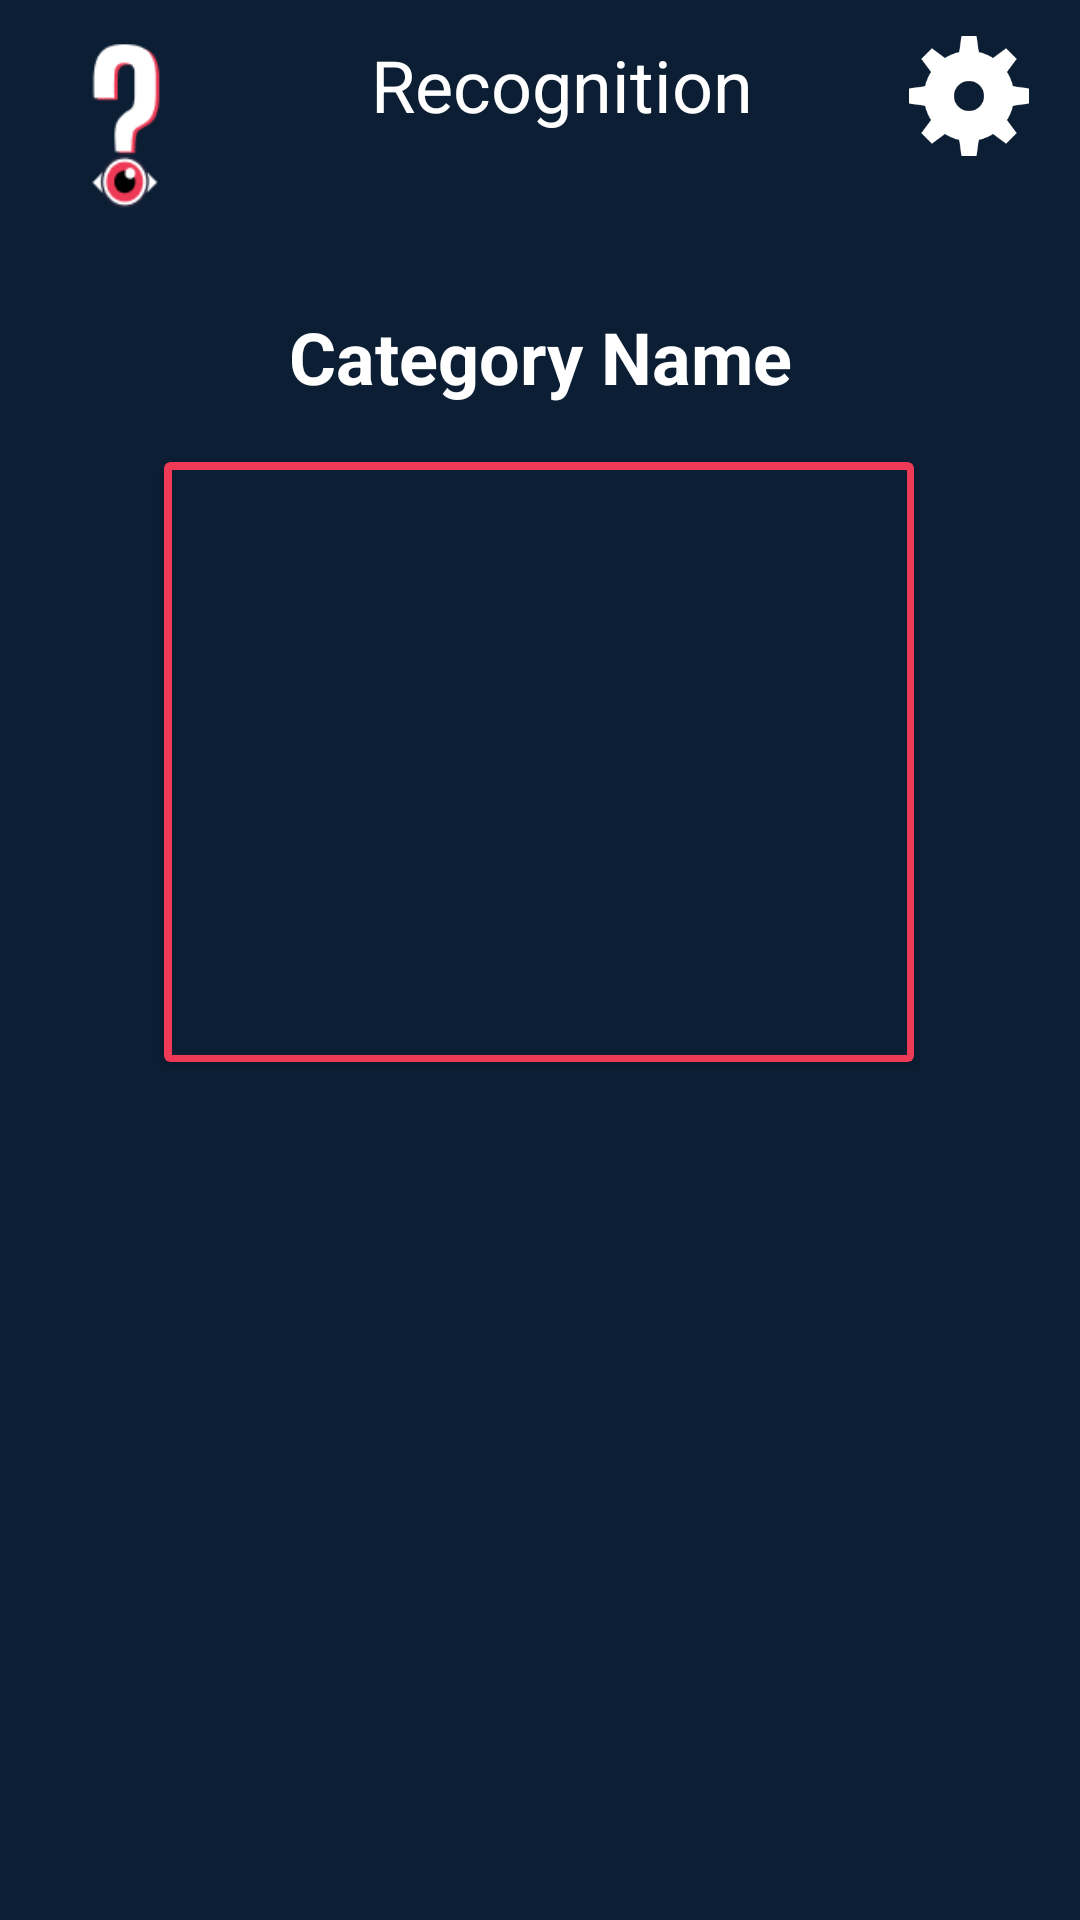

Icon bounding boxes for this 1080 x 1920 phone screenshot, format (x1, y1, x2, y2):
Settings: (909, 36, 1029, 156)
